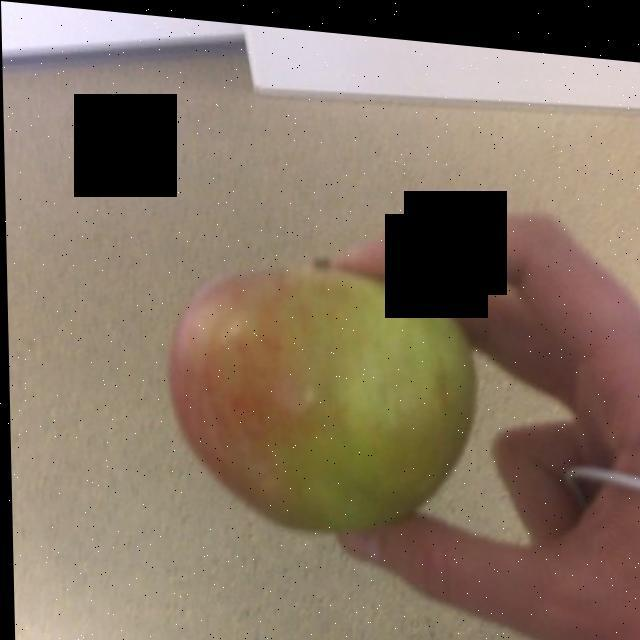apple: (169, 263, 470, 523)
